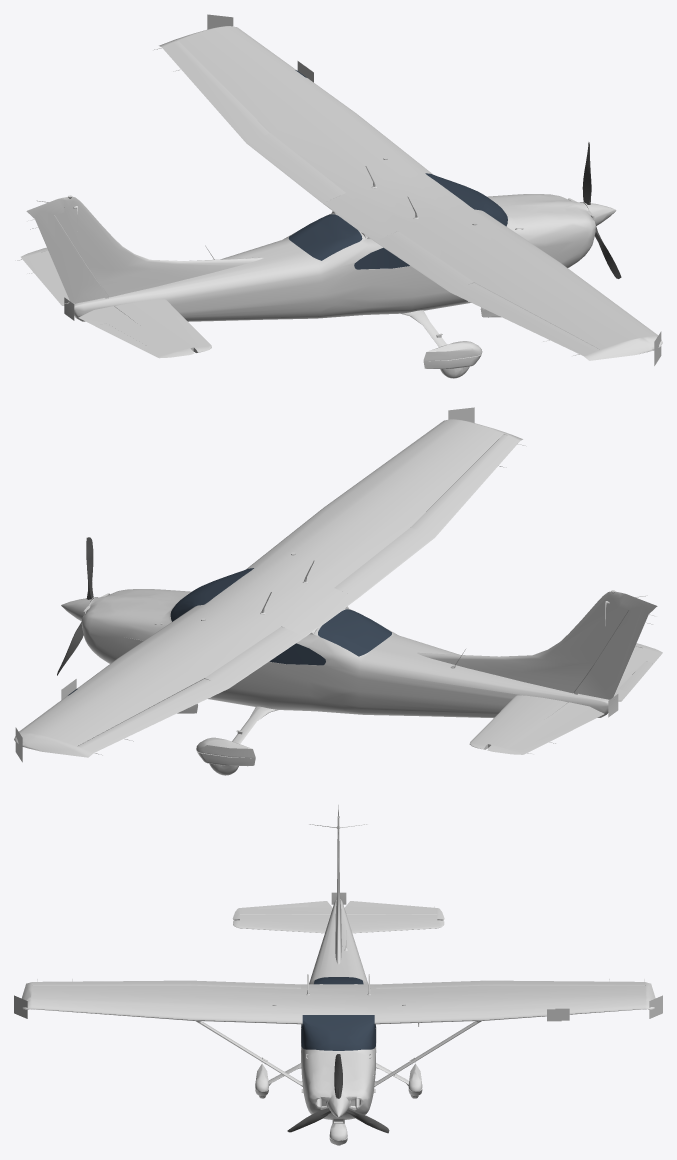
3 renders of one model, top to bottom at view 1: azimuth 30°, elevation 25°; view 2: azimuth 150°, elevation 25°; view 3: azimuth 270°, elevation 25°, orthographic. The views are drawn at different scales.
Visible parts, largest first — view 1: body, glass, spin; view 2: body, glass, spin; view 3: body, glass, spin.
Boxes of the visible parts, x1,y1,x2,y2 form: body: [15, 14, 662, 378]; glass: [288, 70, 507, 269]; spin: [582, 142, 621, 278]; body: [14, 407, 662, 775]; glass: [68, 568, 391, 695]; spin: [57, 537, 93, 675]; body: [14, 805, 662, 1145]; glass: [301, 977, 375, 1050]; spin: [287, 1054, 389, 1133].
Bounding box in the file's own units: 1.68 × 0.6359 × 2.2.
